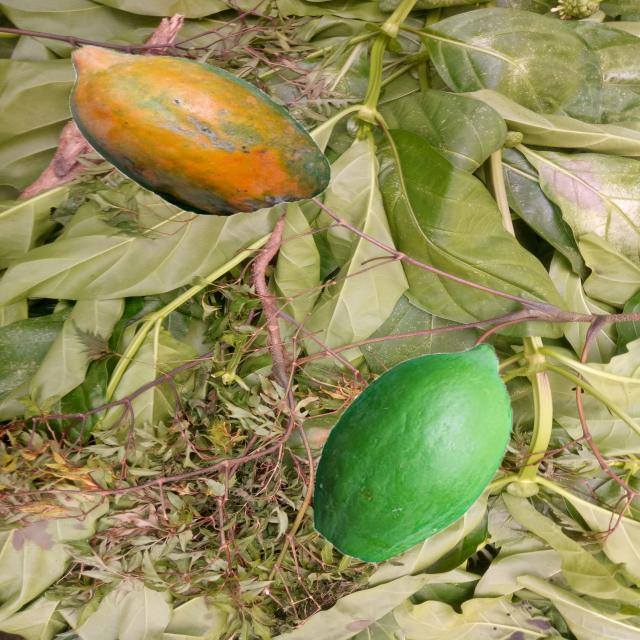Pepaya rippen: (65, 38, 342, 228)
Pepaya unrippen: (313, 343, 533, 565)
